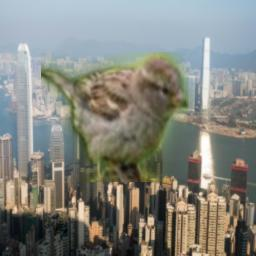Sparrow: (41, 52, 189, 182)
